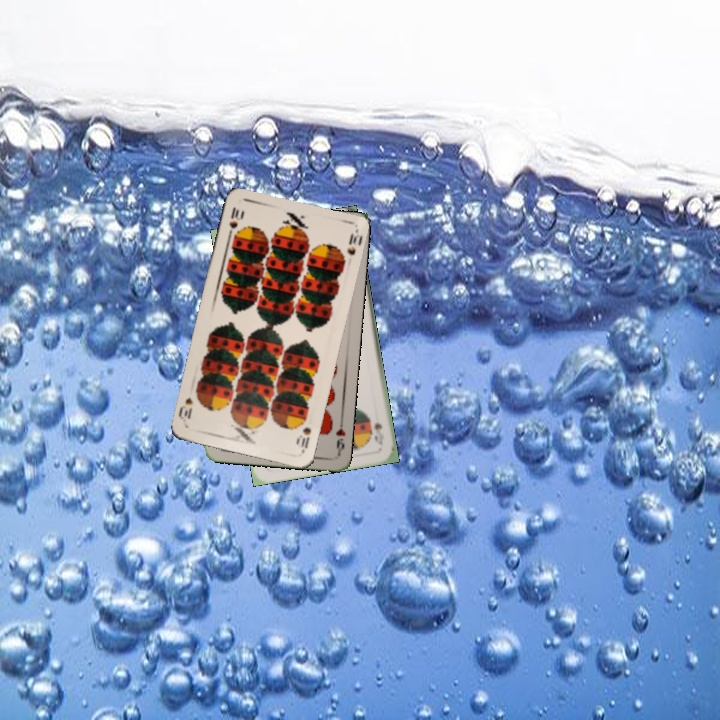H9: (332, 415, 348, 456)
S10: (224, 203, 245, 242), (293, 423, 313, 453)
SO: (370, 418, 386, 447)
